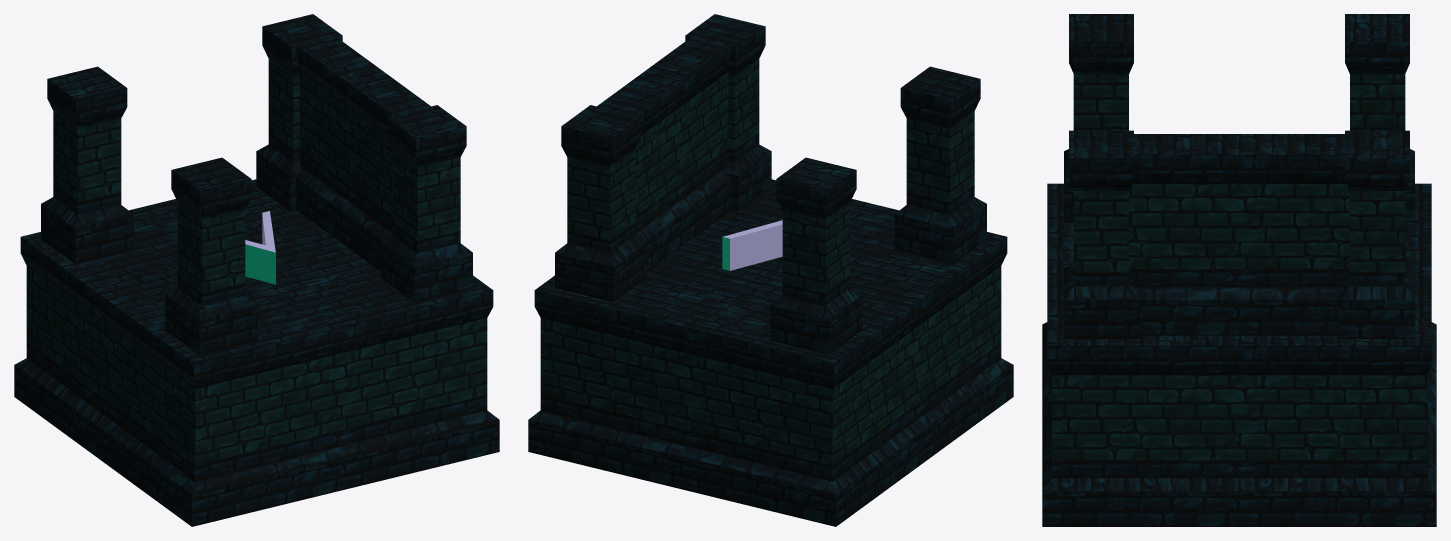
File: debug-wall-left.glb
3 renders of one model, left to right at view 1: azimuth 30°, elevation 25°; view 2: azimuth 150°, elevation 25°; view 3: azimuth 270°, elevation 25°, orthographic. The views are drawn at different scales.
Visible parts, largest first — view 1: mergedBlocks(Clone); view 2: mergedBlocks(Clone); view 3: mergedBlocks(Clone).
Boxes of the visible parts, x1,y1,x2,y2 form: mergedBlocks(Clone): (14, 14, 499, 526); mergedBlocks(Clone): (528, 14, 1013, 526); mergedBlocks(Clone): (1042, 14, 1436, 526).
Size of the model in its own units: 2 by 2 by 2.
Materials: 4 (2 with a texture image).
